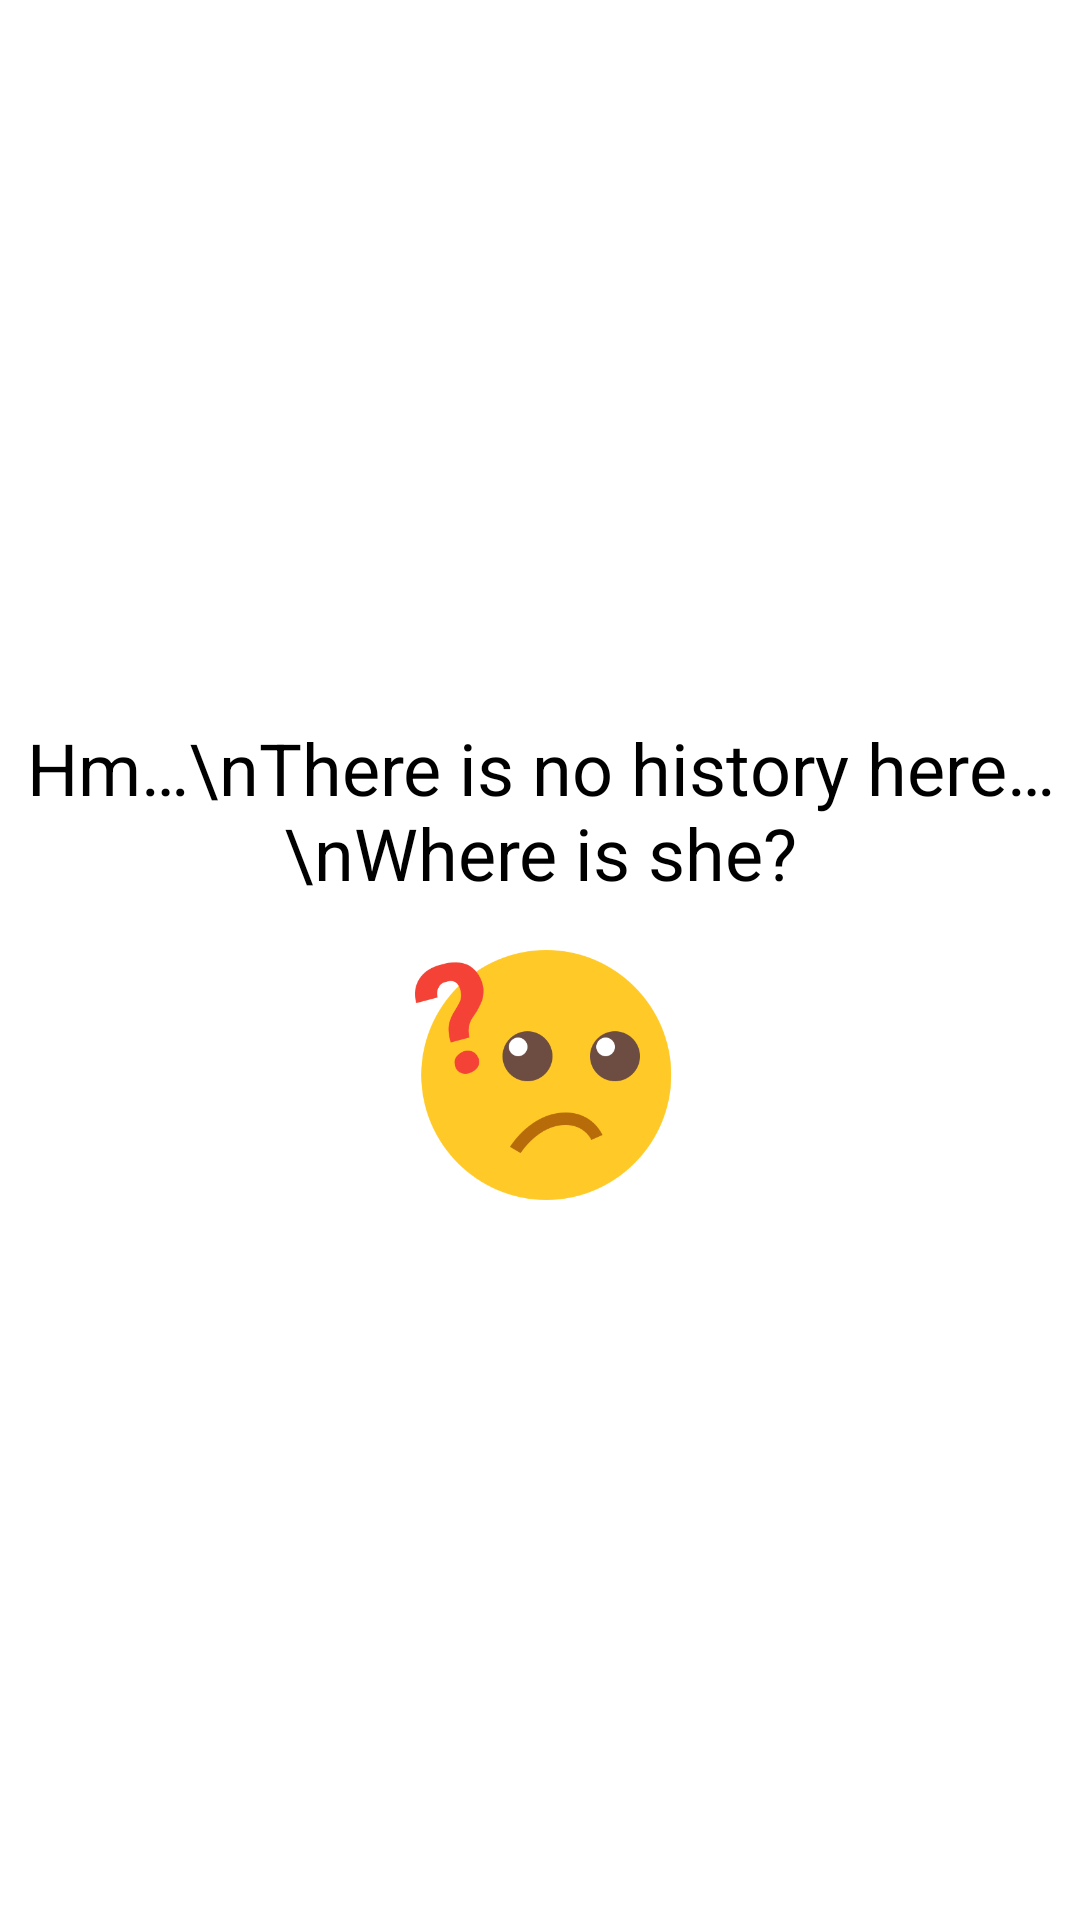

Icon click points for this 1080w x 1920h phone screenshot, format [x,y]:
question: [543,1075]
